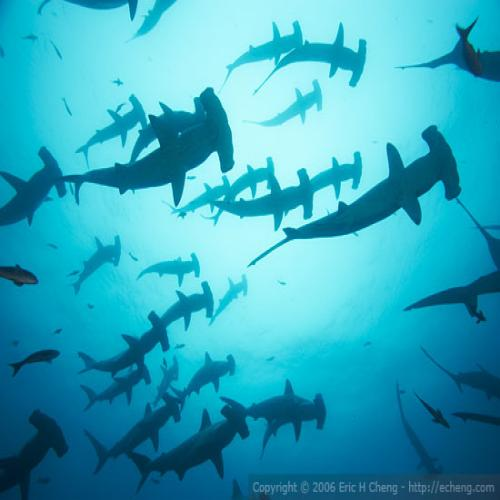shark-endangered: (284, 112, 470, 266), (69, 75, 225, 208), (133, 399, 238, 491), (139, 401, 235, 489), (91, 382, 180, 472), (0, 127, 68, 235), (266, 25, 378, 86), (0, 395, 72, 489), (78, 302, 159, 380), (385, 372, 440, 478), (421, 339, 500, 409), (238, 379, 338, 433), (73, 89, 146, 159), (254, 76, 322, 143), (219, 152, 279, 214), (76, 230, 126, 302), (92, 358, 150, 414), (453, 13, 488, 102), (137, 246, 204, 286), (187, 349, 239, 396), (213, 267, 250, 330), (11, 339, 64, 382), (413, 384, 454, 436), (176, 278, 221, 325), (0, 255, 39, 298)
